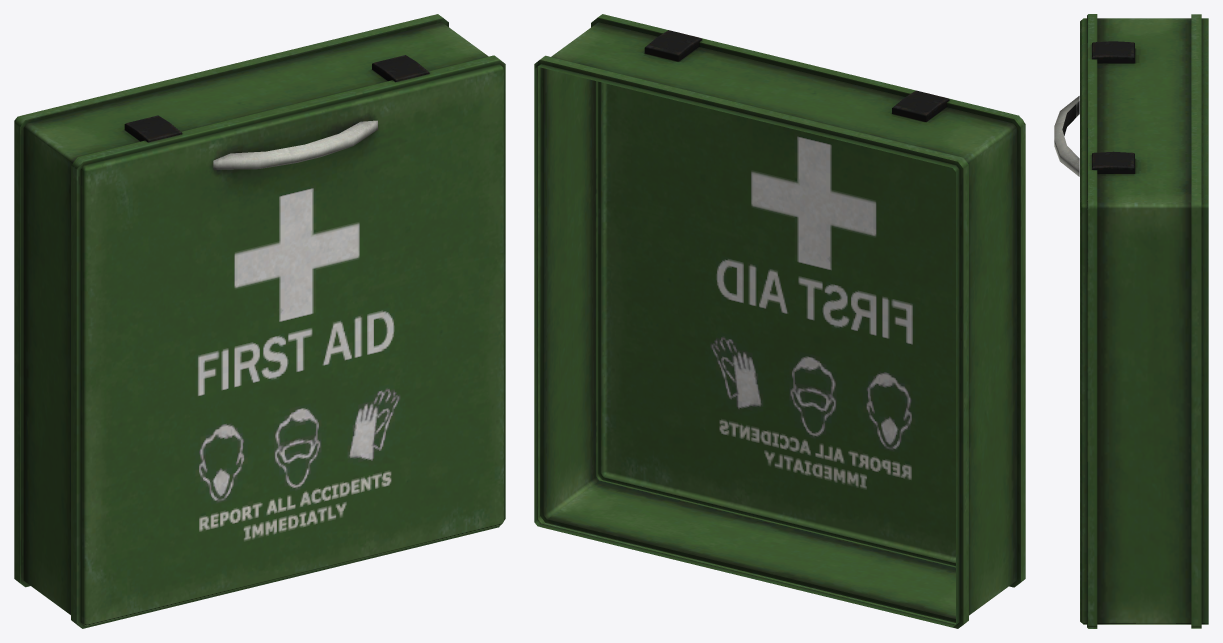
The model's file is first_aid_kit_box.dae.
3 renders of one model, left to right at view 1: azimuth 30°, elevation 25°; view 2: azimuth 150°, elevation 25°; view 3: azimuth 270°, elevation 25°, orthographic. The views are drawn at different scales.
Parts seen in each view (by area): view 1: polySurface263, polySurface262; view 2: polySurface263, polySurface262; view 3: polySurface262, polySurface263.
Boxes of the visible parts, x1,y1,x2,y2 form: polySurface263: [71, 55, 505, 628]; polySurface262: [14, 14, 488, 614]; polySurface263: [591, 14, 1025, 587]; polySurface262: [534, 22, 1016, 628]; polySurface262: [1092, 14, 1208, 628]; polySurface263: [1054, 14, 1097, 628].
Size of the model in its own units: 58.57 by 61.47 by 19.92.
